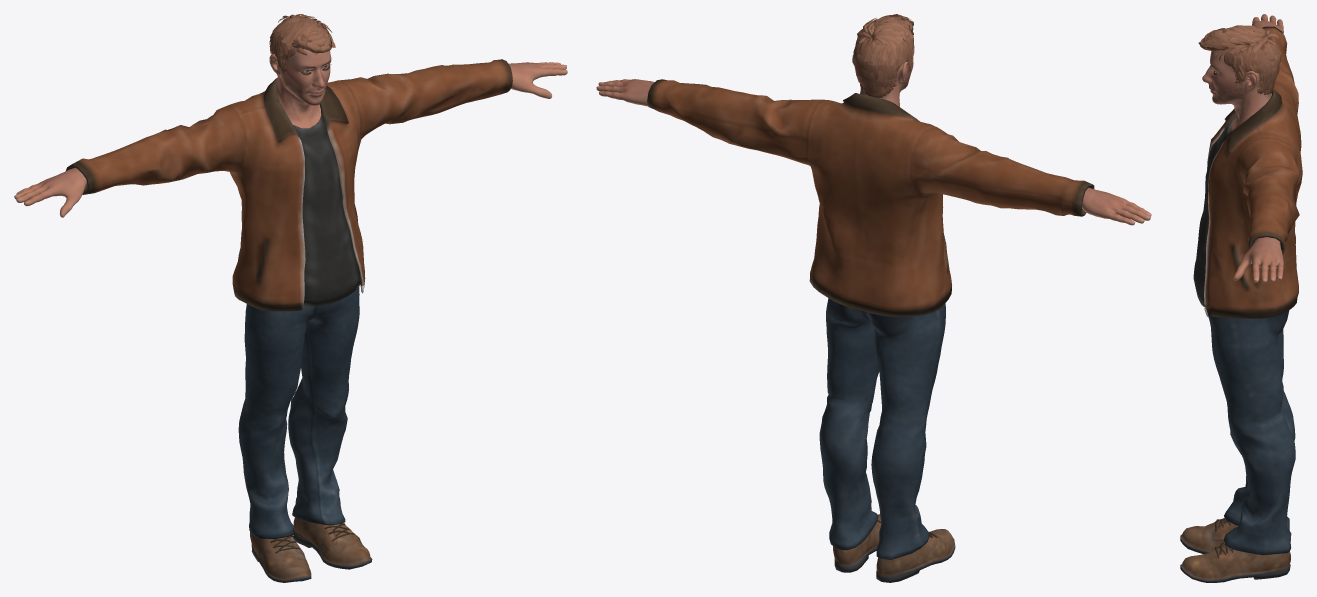
Rendered from male_civ_v1.glb.
3 renders of one model, left to right at view 1: azimuth 30°, elevation 25°; view 2: azimuth 150°, elevation 25°; view 3: azimuth 270°, elevation 25°, orthographic.
Visible parts, largest first — view 1: Object_4, Object_3, Object_2; view 2: Object_4, Object_3, Object_2; view 3: Object_4, Object_3, Object_2.
Part boxes in pixels (x1,y1,x2,y2): Object_4: (65,59,512,582); Object_3: (238,14,359,539); Object_2: (14,49,567,217); Object_4: (647,79,1094,582); Object_3: (819,14,945,559); Object_2: (596,48,1151,225); Object_4: (1180,26,1302,582); Object_3: (1198,25,1295,555); Object_2: (1202,14,1283,283).
Size of the model in its own units: 194 by 182 by 37.72.
Materials: 1 (1 with a texture image).
